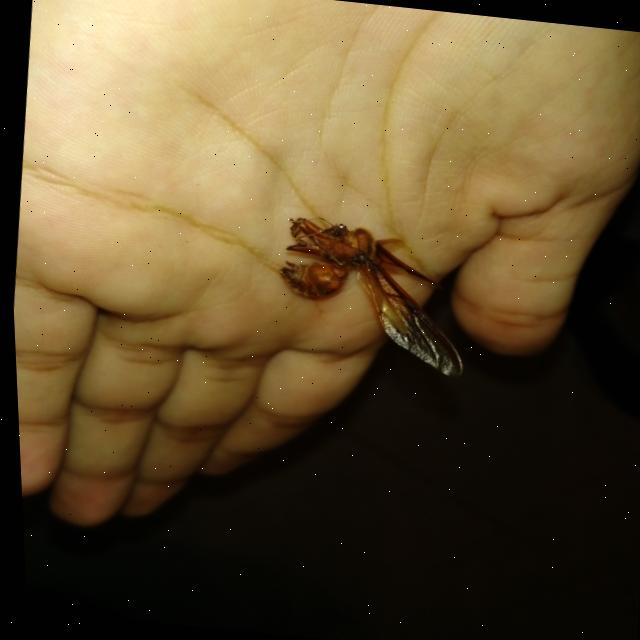Dead-Male-Alate: (265, 213, 475, 379)
